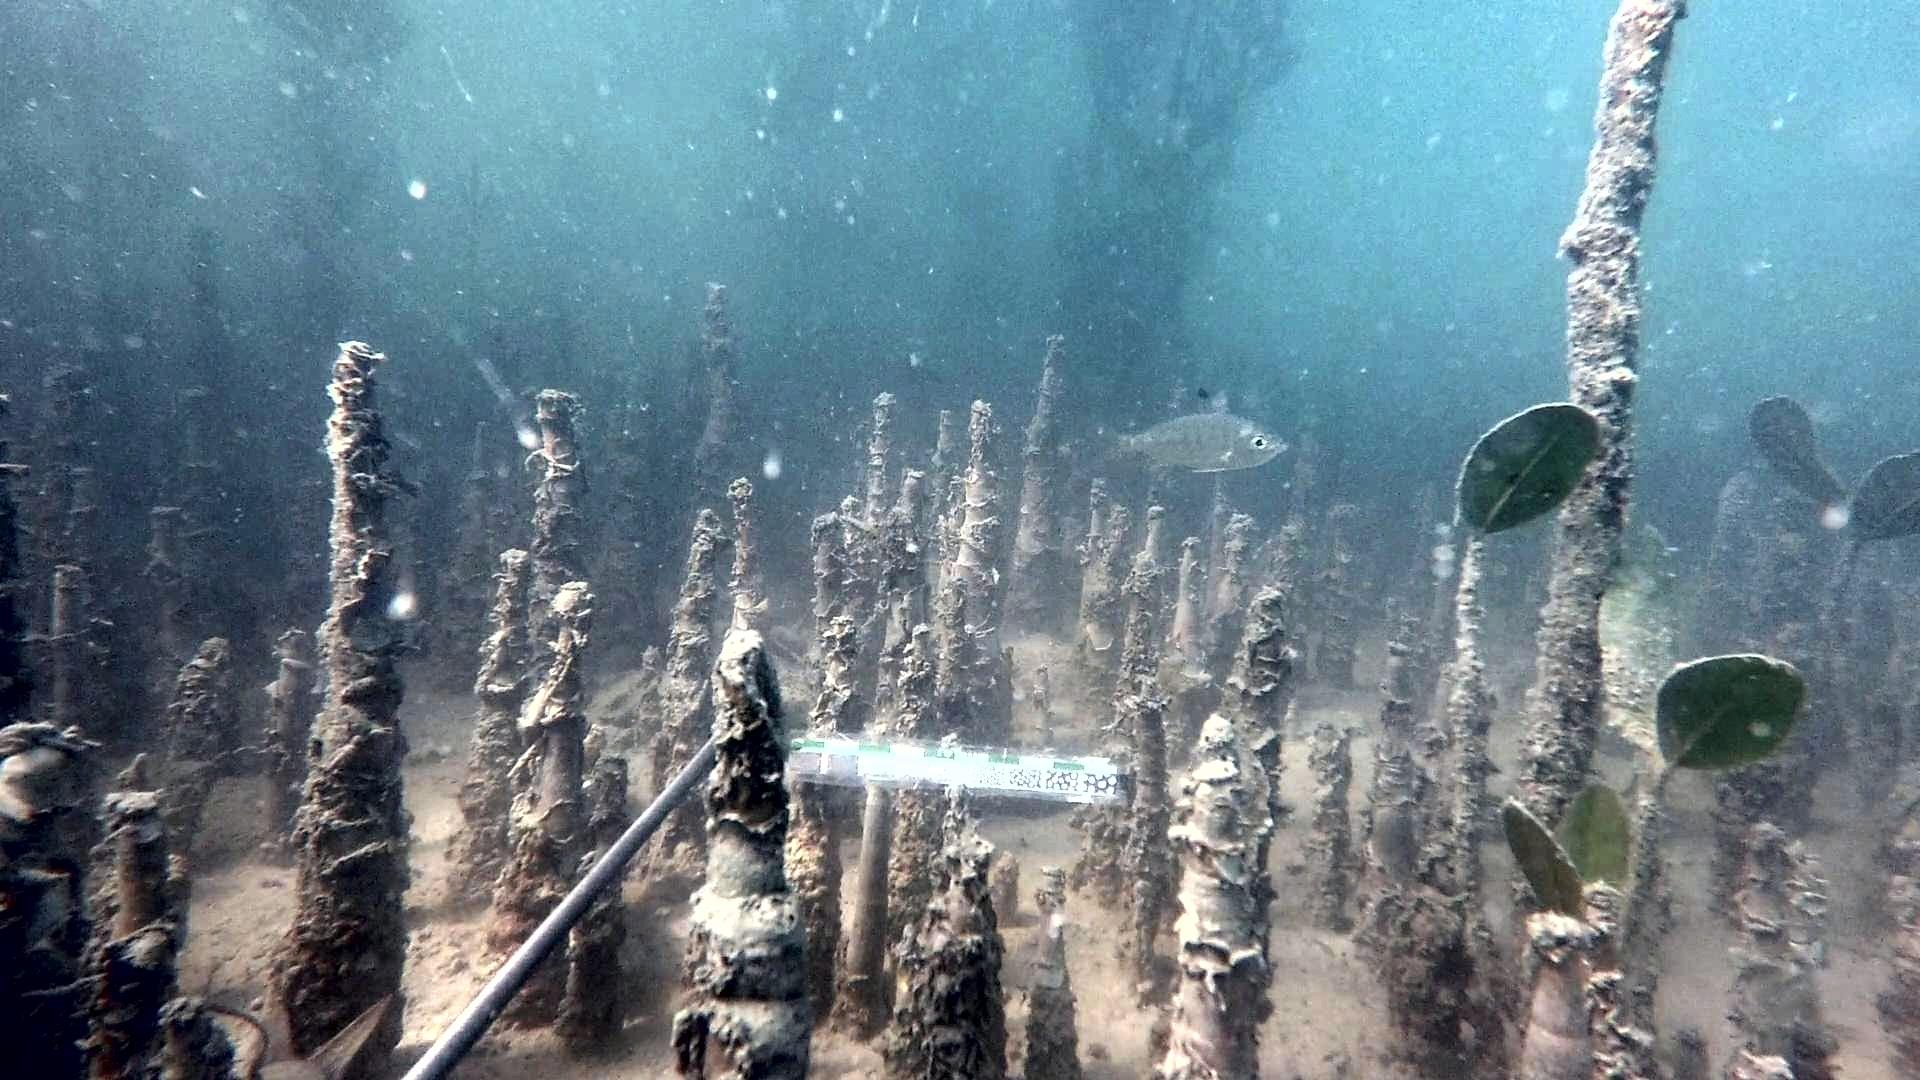gerres: (1102, 386, 1291, 476)
